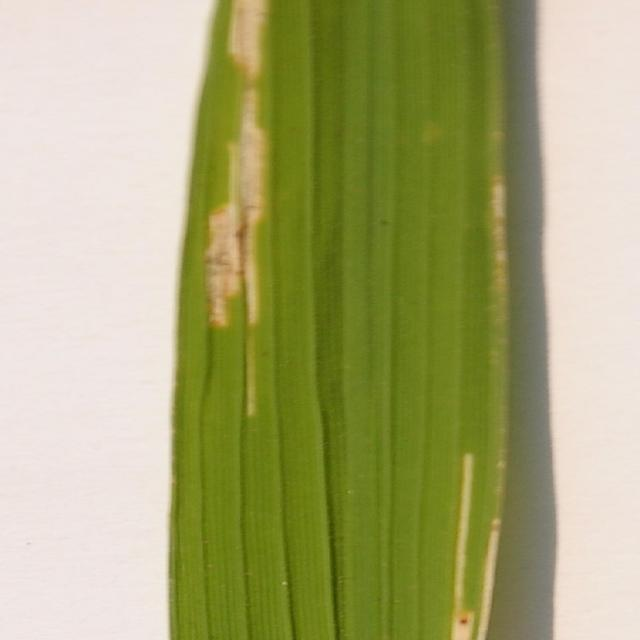leaf blight: (183, 1, 288, 337), (443, 447, 508, 640), (483, 178, 517, 286)
